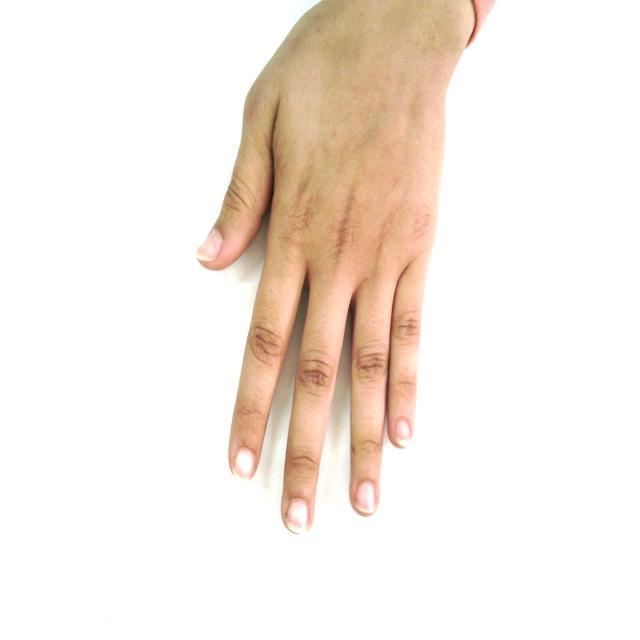Fingernail: (287, 499, 308, 534), (198, 229, 221, 258), (356, 482, 376, 512), (236, 449, 255, 478), (396, 420, 411, 442)
